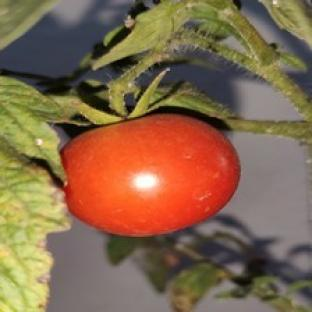Tomato: (62, 113, 239, 236)
